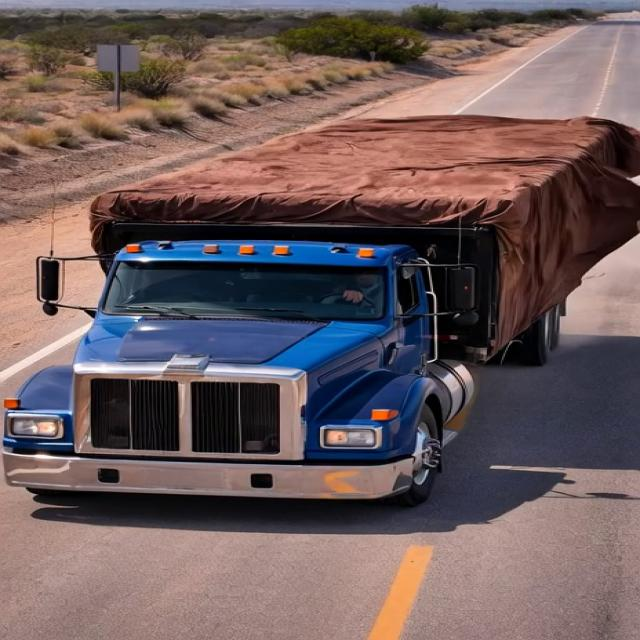Box: (107, 114, 598, 235)
Truck: (5, 96, 608, 502)
